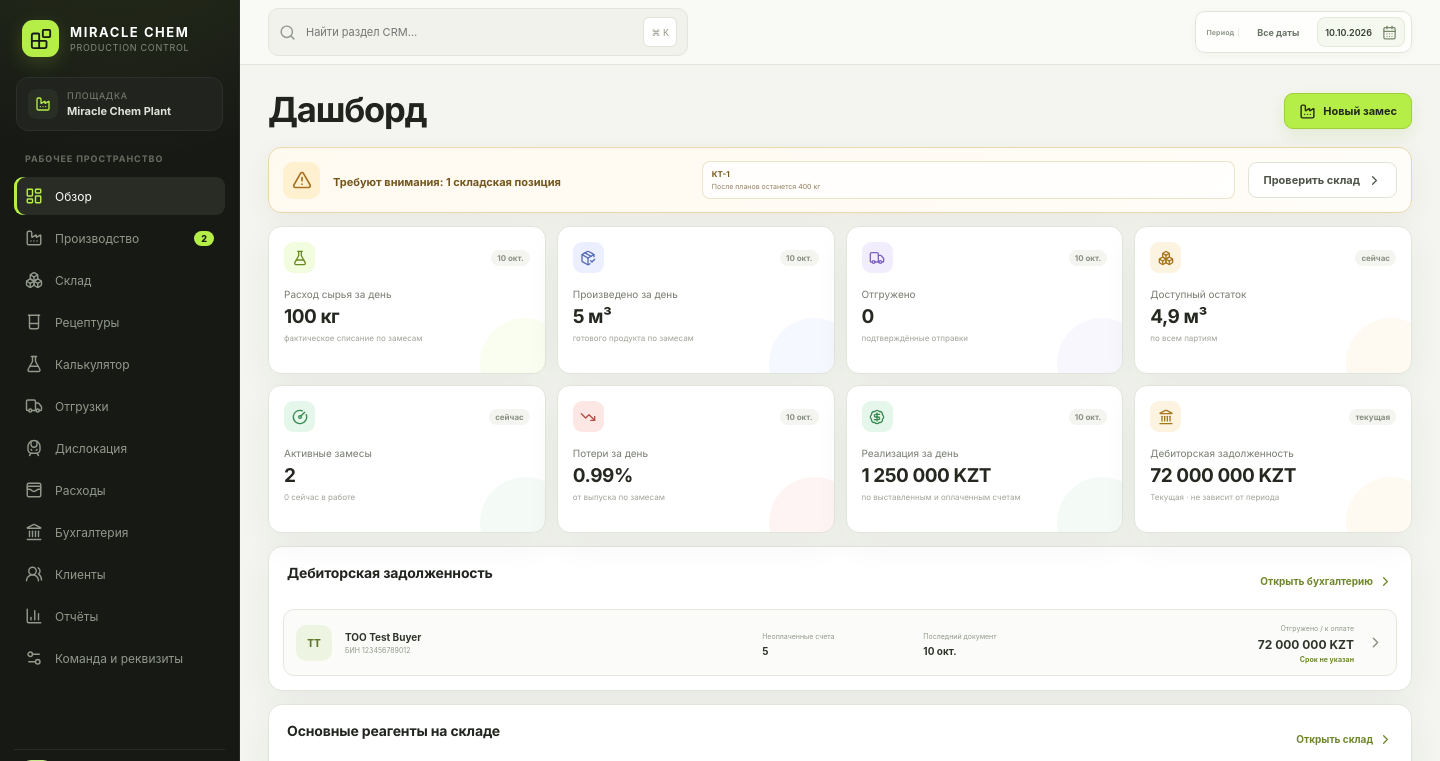
Test case: Miracle Chem app shell › shows the single production line and tank without redundant selectors
The image size is (1440, 761).
Expected: the text "Произведено за день" is shown, [573, 289, 678, 301]
Click the button "Производство 2". click: (120, 238)
box: [14, 219, 225, 257]
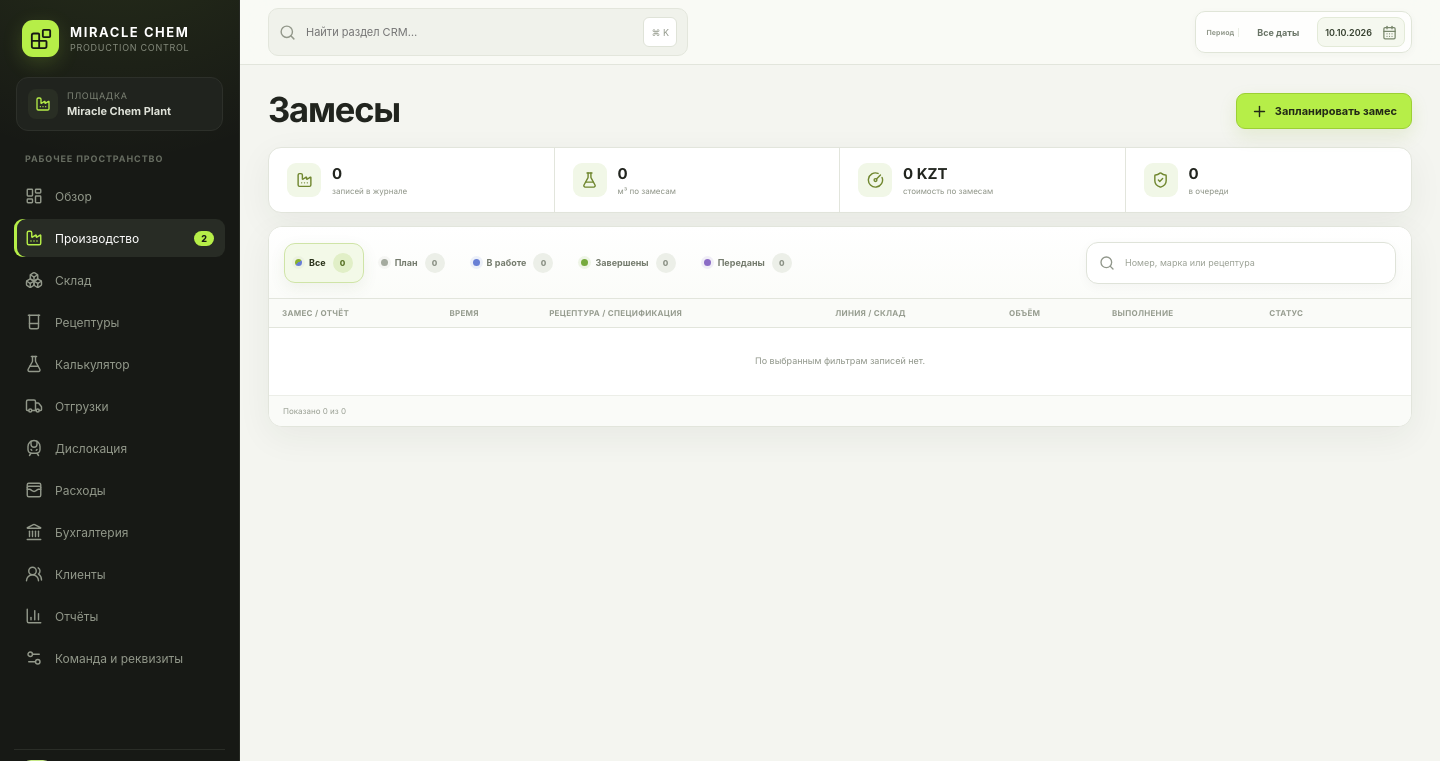
Expected: the heading "Замесы" is shown, [268, 93, 400, 129]
Click the button "Запланировать замес". click: (1324, 111)
box: [1236, 93, 1412, 129]
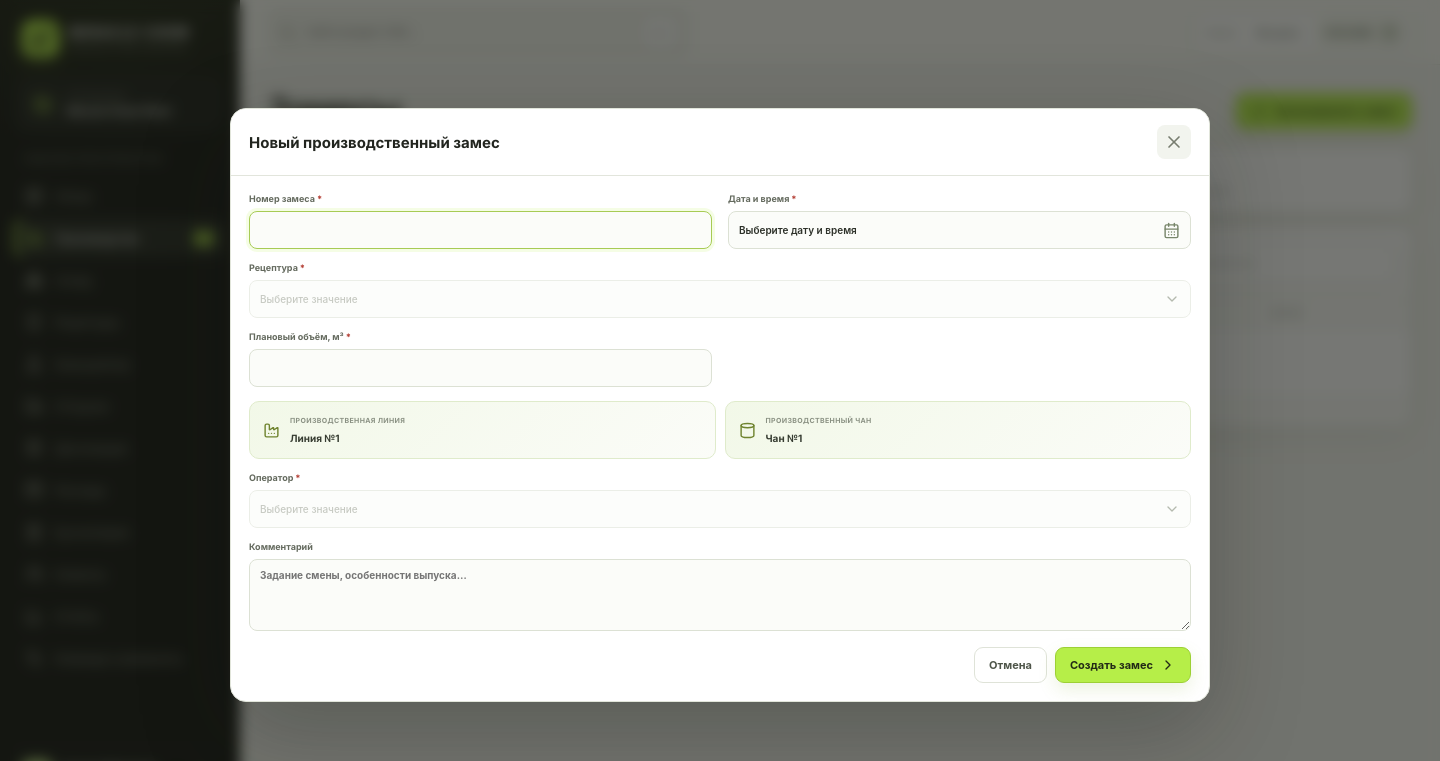
Expected: the text "Линия №1" is shown, [290, 432, 340, 444]
Expected: the text "Чан №1" is shown, [766, 432, 802, 444]
